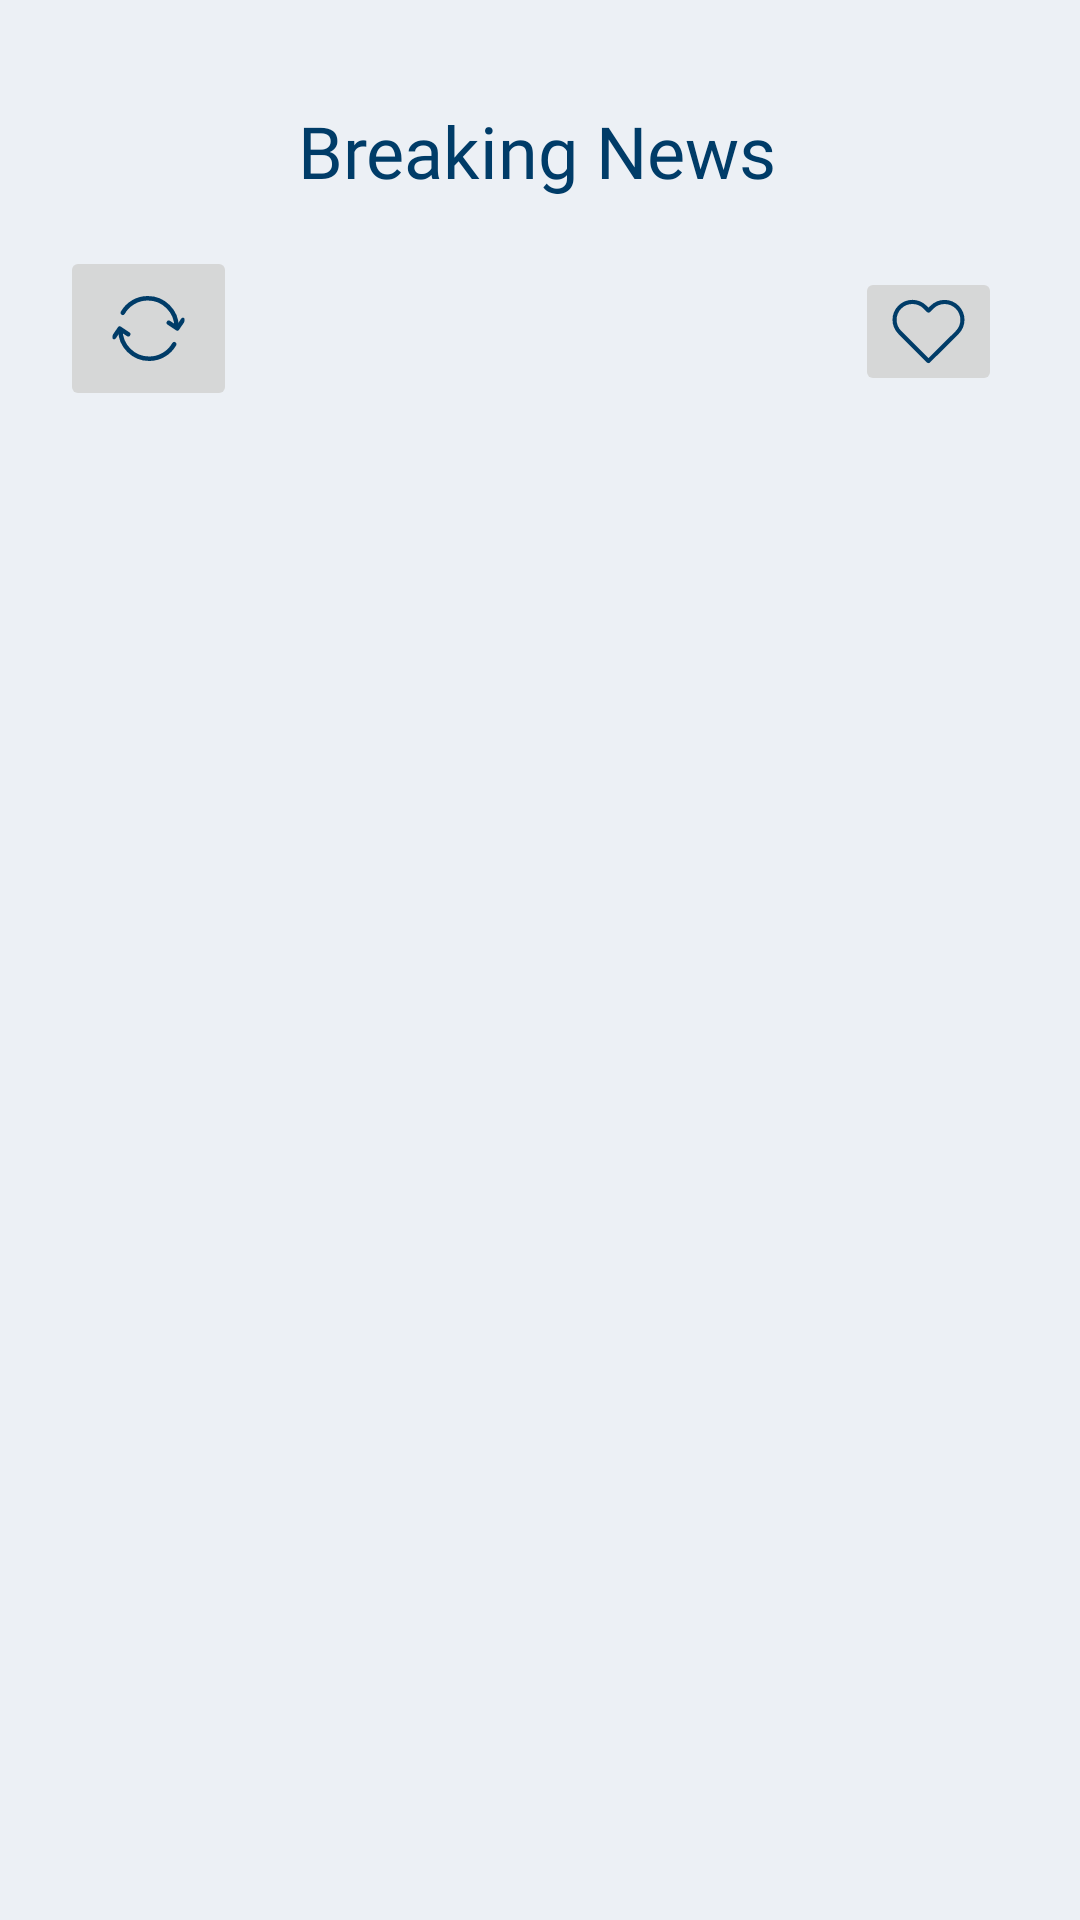

Icon bounding boxes for this 1080*1920 phone screenshot, format (x1, y1, x2, y2):
refresh: (72, 264, 225, 393)
